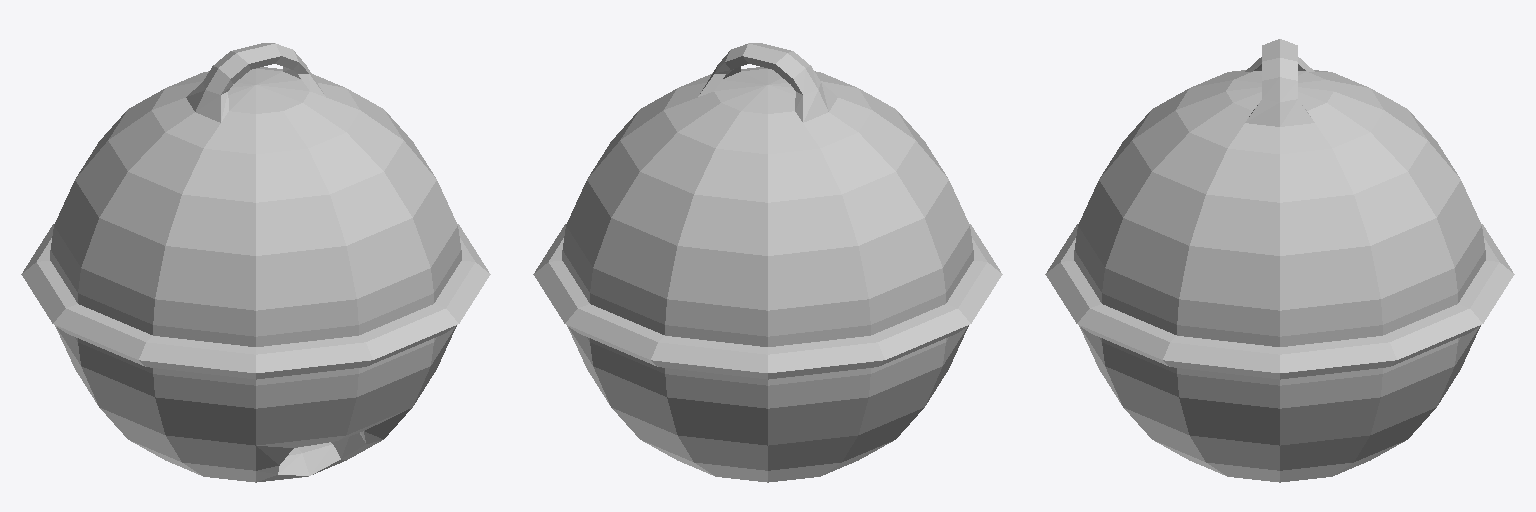
File: ball2.obj
3 renders of one model, left to right at view 1: azimuth 30°, elevation 25°; view 2: azimuth 150°, elevation 25°; view 3: azimuth 270°, elevation 25°, orthographic.
Visible parts, largest first — view 1: bell:pSphere17; view 2: bell:pSphere17; view 3: bell:pSphere17.
Boxes of the visible parts, x1,y1,x2,y2 form: bell:pSphere17: [21, 43, 490, 482]; bell:pSphere17: [533, 43, 1002, 482]; bell:pSphere17: [1045, 39, 1514, 482].
Bounding box in the file's own units: 1.39 × 1.35 × 1.39.